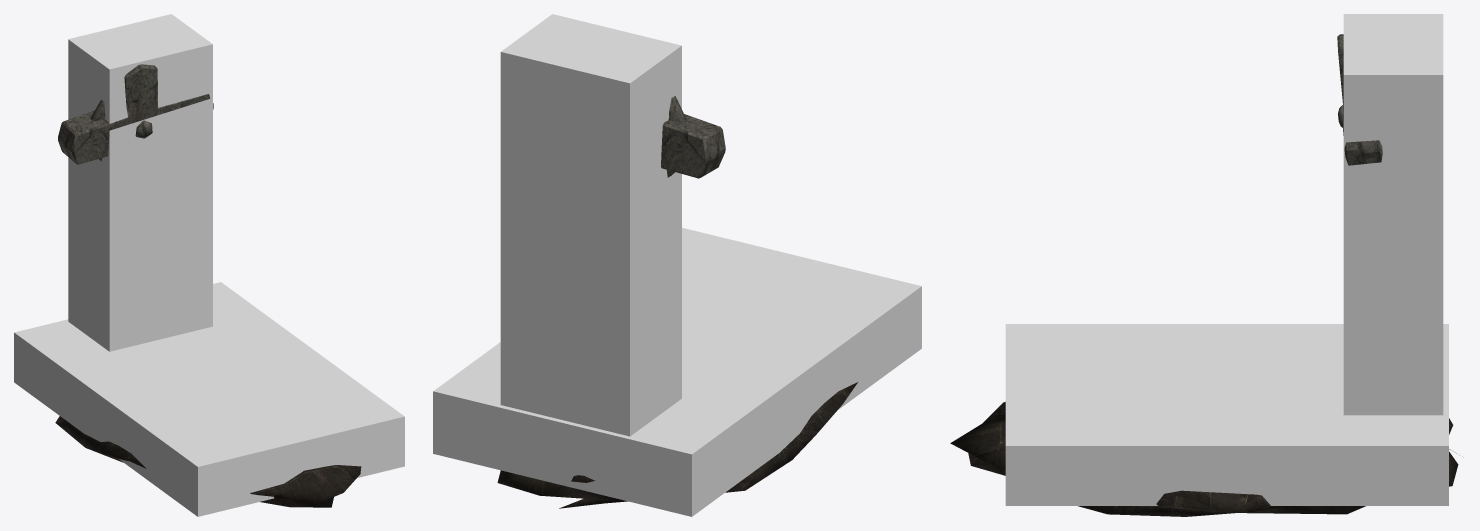
File: grave_celtic_cross_v1_lite.glb
3 renders of one model, left to right at view 1: azimuth 30°, elevation 25°; view 2: azimuth 150°, elevation 25°; view 3: azimuth 270°, elevation 25°, orthographic. The views are drawn at different scales.
Visible parts, largest first — view 1: col_mound, col_cross, cross, mound; view 2: col_cross, col_mound, mound, cross; view 3: col_mound, col_cross, mound, cross.
Part boxes in pixels (x1,y1,x2,y2): col_mound: (14, 282, 404, 516); col_cross: (68, 14, 212, 351); cross: (58, 64, 213, 164); mound: (55, 416, 361, 507); col_cross: (500, 14, 681, 436); col_mound: (433, 227, 921, 516); mound: (497, 382, 857, 508); cross: (661, 96, 725, 178); col_mound: (1005, 324, 1448, 505); col_cross: (1343, 14, 1443, 415); mound: (950, 402, 1458, 516); cross: (1337, 34, 1382, 165).
Size of the model in its own units: 1.44 by 2.12 by 2.33.
Materials: 2 (2 with a texture image).
